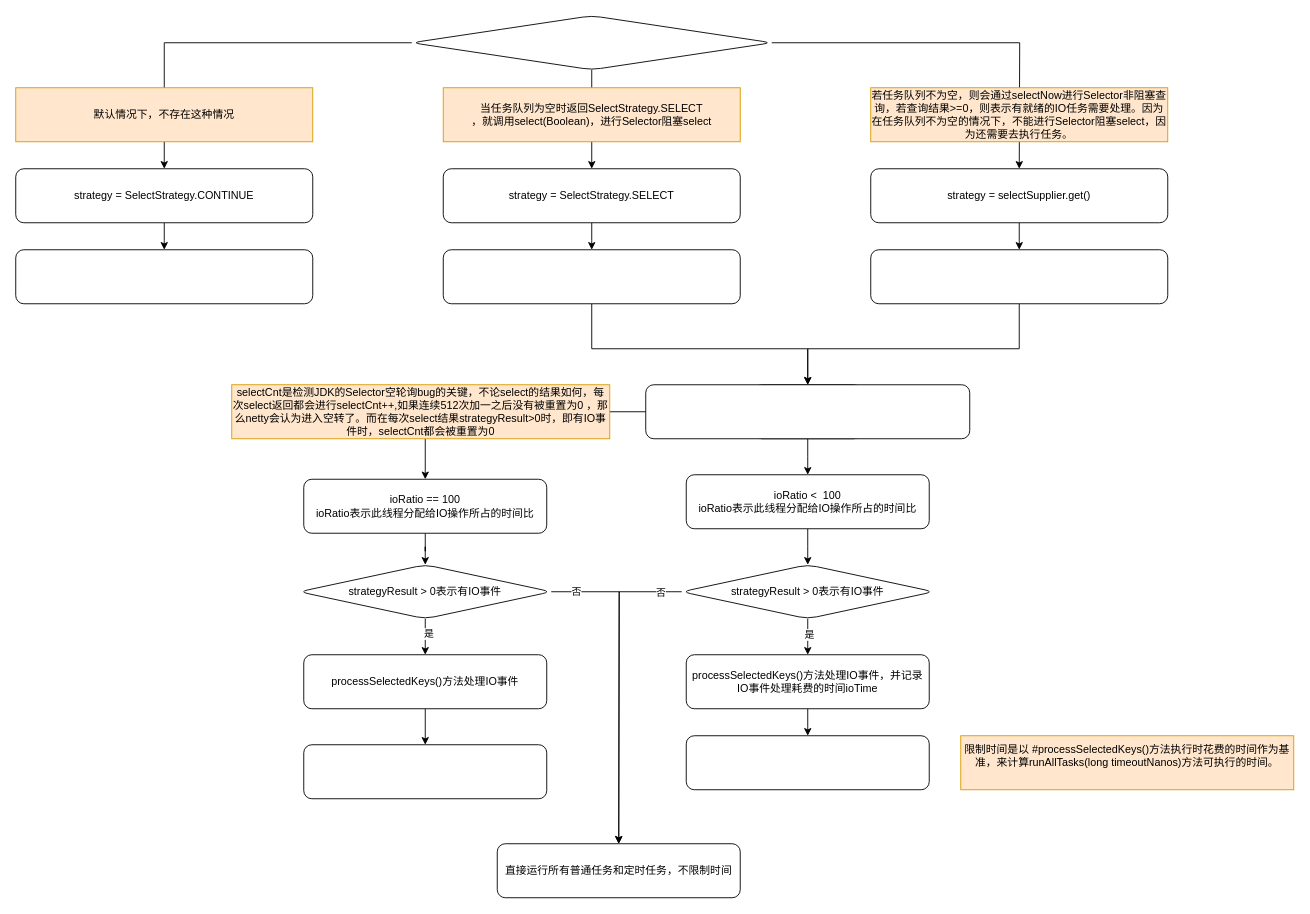
Some shapes in this 1310 by 914 pixel diagram are drawn without their labels. Here are the shapes that lost their labels. From the top down, the centre of each, then its label:
point (591, 42): strategy = selectStrategy.calculateStrategy(selectNowSupplier, hasTasks())
point (164, 276): 结束此轮循环，进入下一轮循环
point (591, 276): 进行Selector阻塞select
point (1019, 276): 通过selectNow进行非阻塞select
point (807, 411): select结果返回，记为strategyResult。然后selectCnt++
point (425, 771): IO事件处理完成之后，运行所有普通任务和定时任务，不限制时间
point (807, 762): IO事件处理完成之后，运行所有普通任务和定时任务。限制时间
